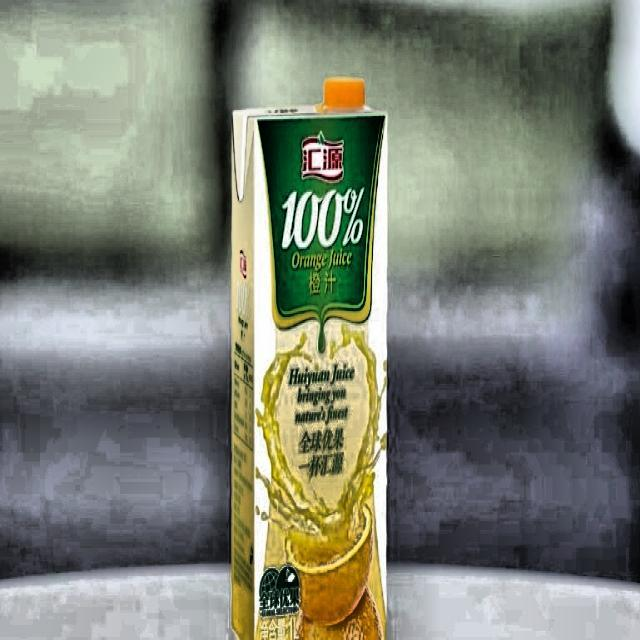cardboard: (229, 95, 389, 637)
